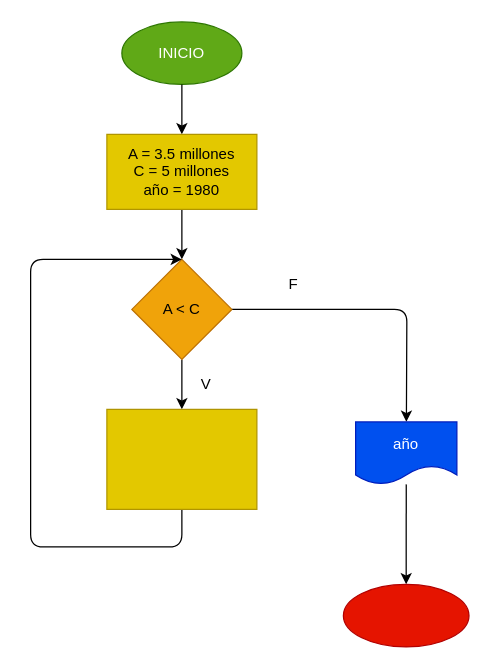
This 491x669 diagram has some shape labels left out. The shapes that lost their labels are listed below. From the top down, each one's centre as x and y in pixels, then its label:
the point at 181,458: A = A + A*(7/100) B = B + B*(5/100) año = año +1
the point at 405,615: FIN
